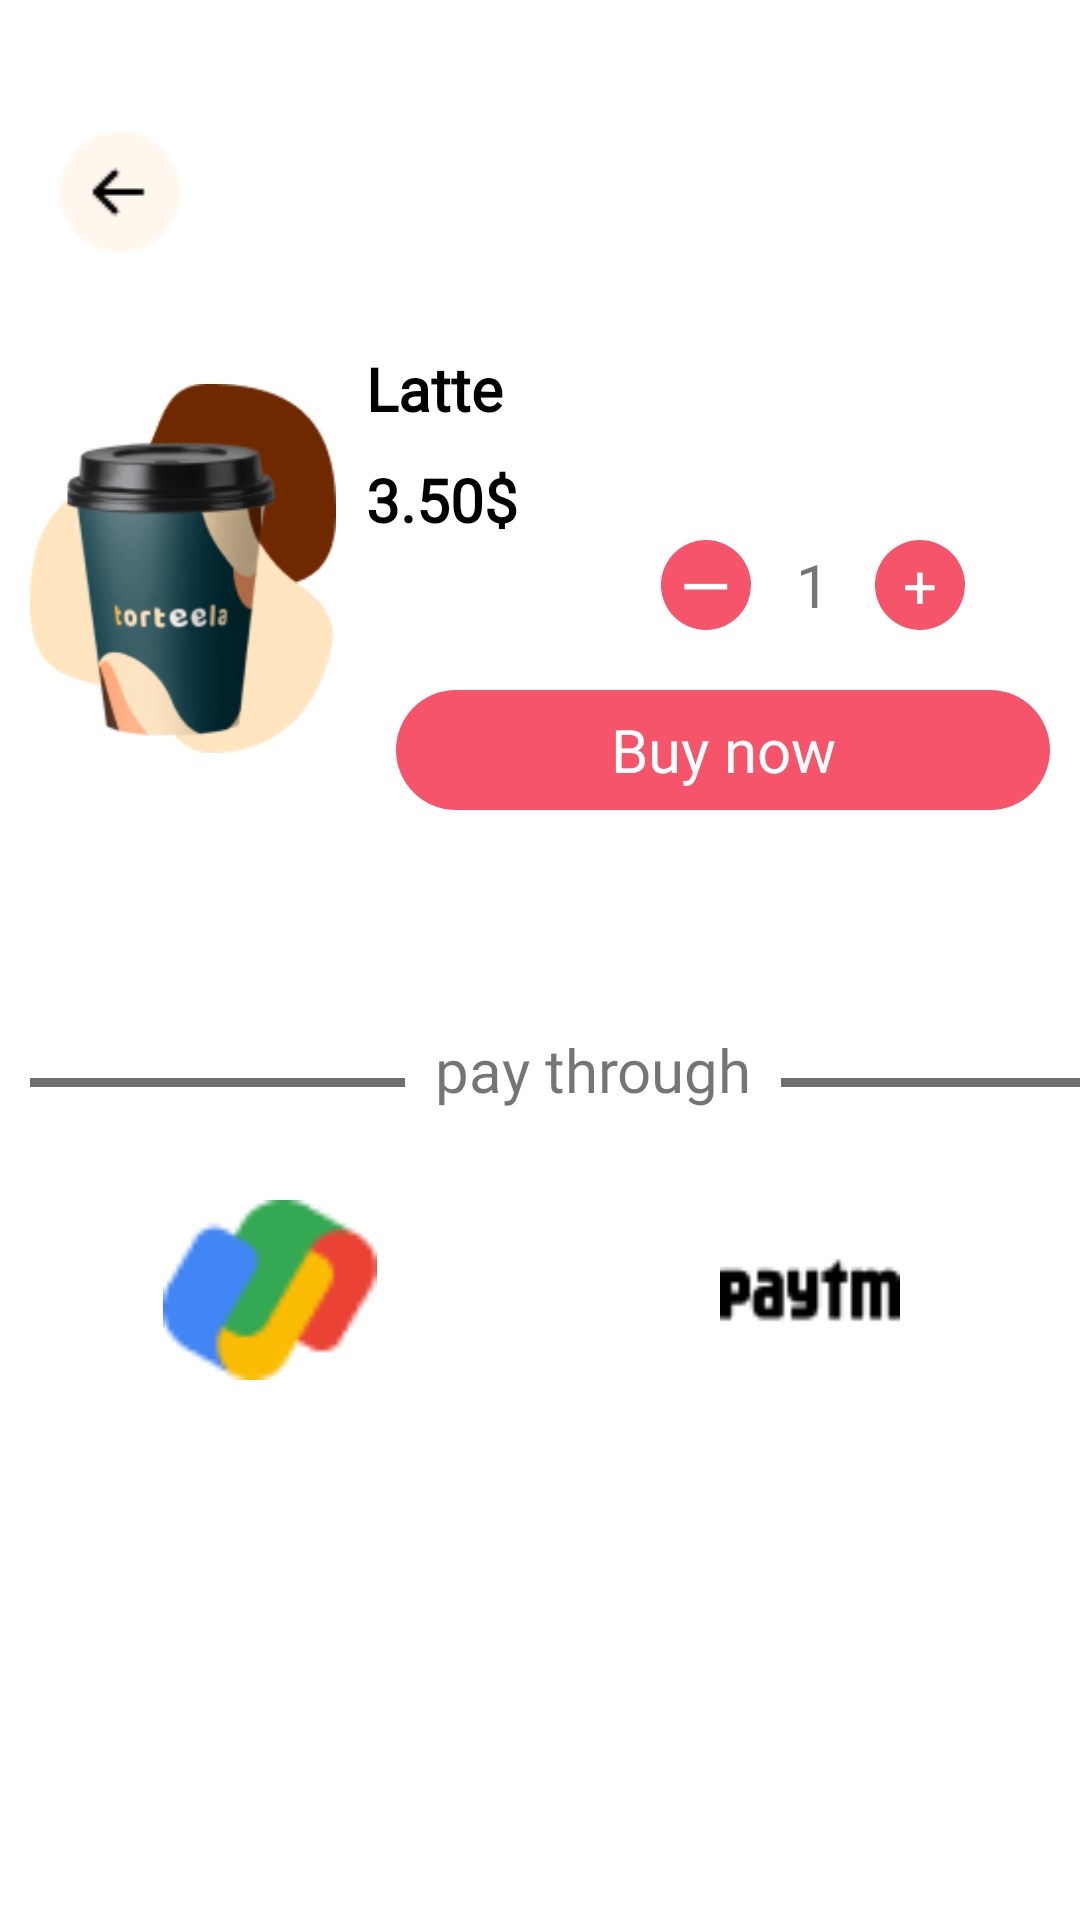

Icon bounding boxes for this 1080*1920 phone screenshot, format region(x1, y1, x2, y2):
prev: region(60, 132, 180, 252)
